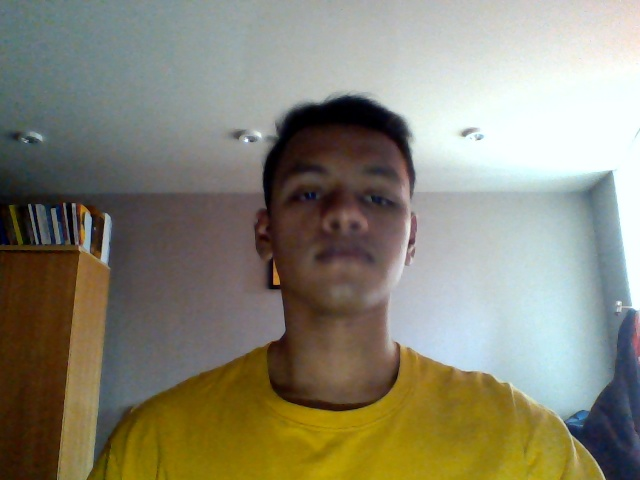no_mask: (274, 212, 409, 302)
